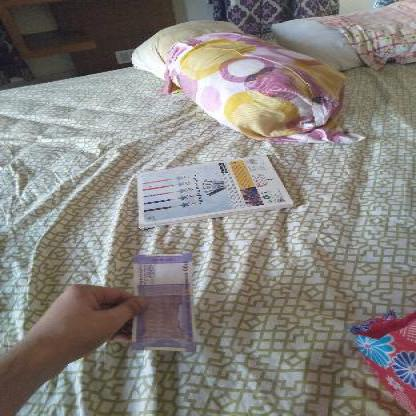New100Back: (132, 257, 193, 351)
